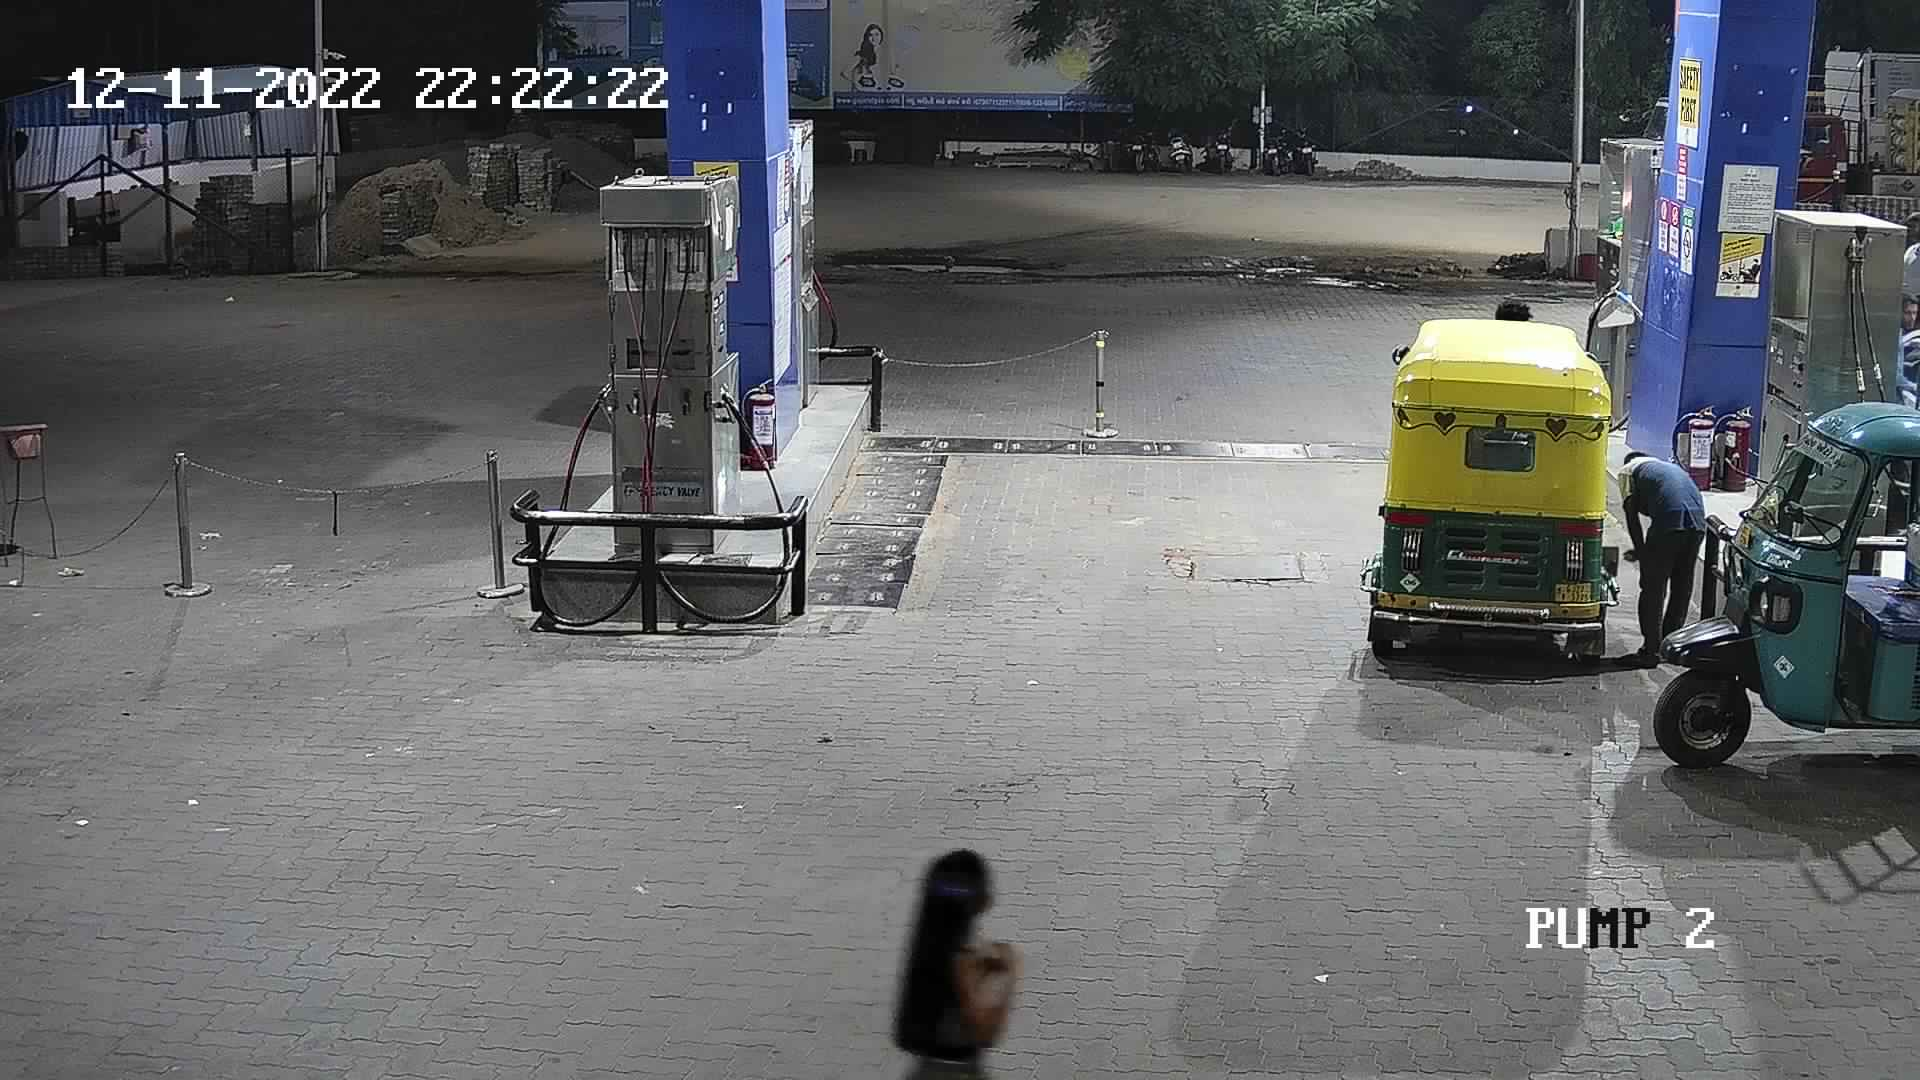Auto: (1638, 386, 1917, 775), (1357, 289, 1630, 680)
Bike: (1126, 121, 1172, 177), (1199, 120, 1240, 179), (1259, 127, 1299, 179), (1287, 121, 1323, 177), (1162, 120, 1200, 171)
HMV: (1779, 41, 1917, 204)
